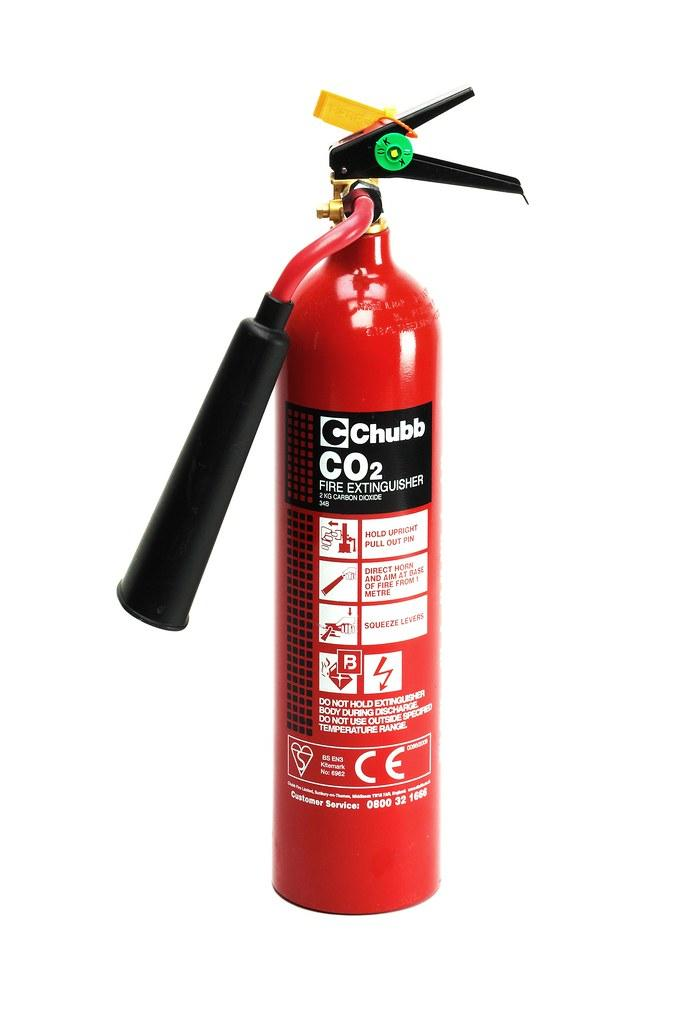Fire Extinguisher: (105, 60, 538, 978)
